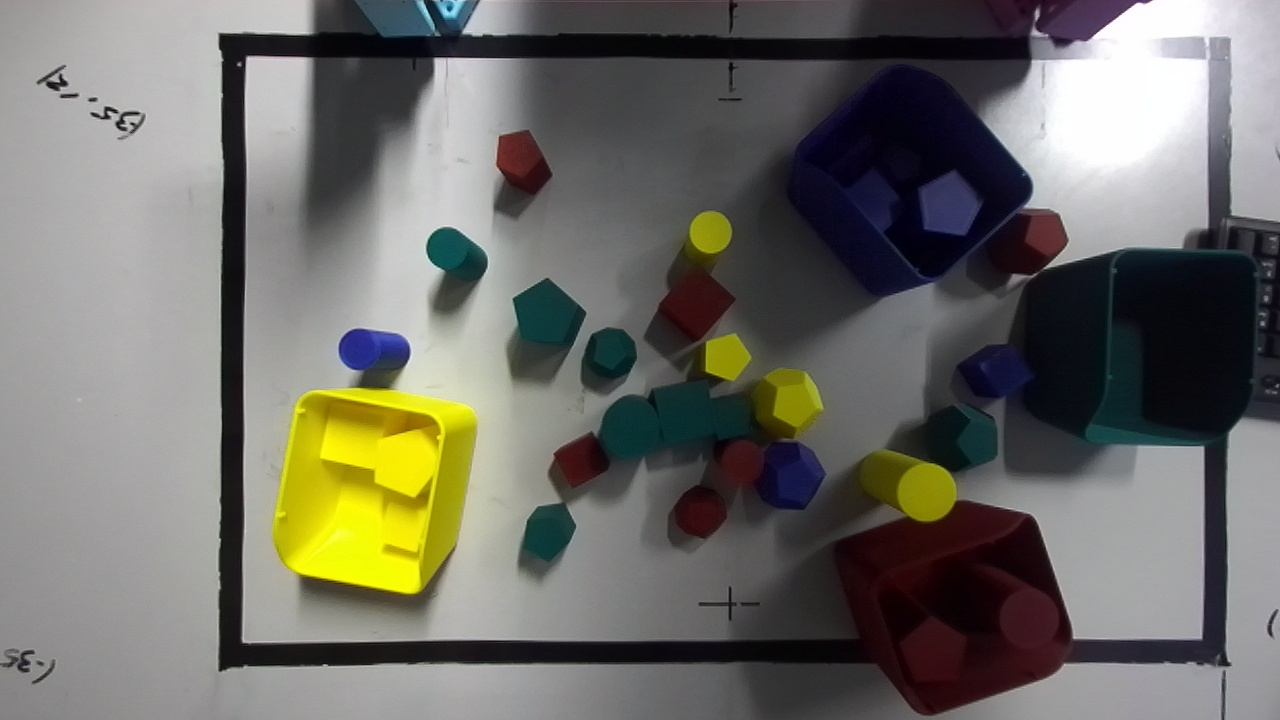bin: (788, 65, 1032, 295), (835, 501, 1071, 713), (1024, 248, 1256, 444), (272, 389, 475, 593)
cube: (321, 402, 414, 468), (658, 270, 734, 339), (649, 381, 714, 444), (957, 344, 1033, 397), (845, 167, 899, 231), (554, 432, 609, 487), (382, 497, 425, 554), (710, 394, 753, 439)
cylinder: (859, 450, 955, 521), (599, 395, 660, 458), (999, 585, 1058, 648), (426, 227, 487, 281), (338, 329, 410, 370), (682, 210, 731, 269), (674, 485, 726, 537), (715, 439, 762, 485)
dodecahedron: (986, 209, 1067, 274), (751, 368, 822, 437), (755, 442, 825, 509), (926, 404, 997, 470), (584, 327, 636, 377)
hexagonal: (513, 277, 585, 345), (899, 616, 966, 682), (918, 170, 982, 235), (375, 430, 435, 497), (496, 130, 551, 193), (521, 503, 575, 560), (694, 333, 750, 380)
